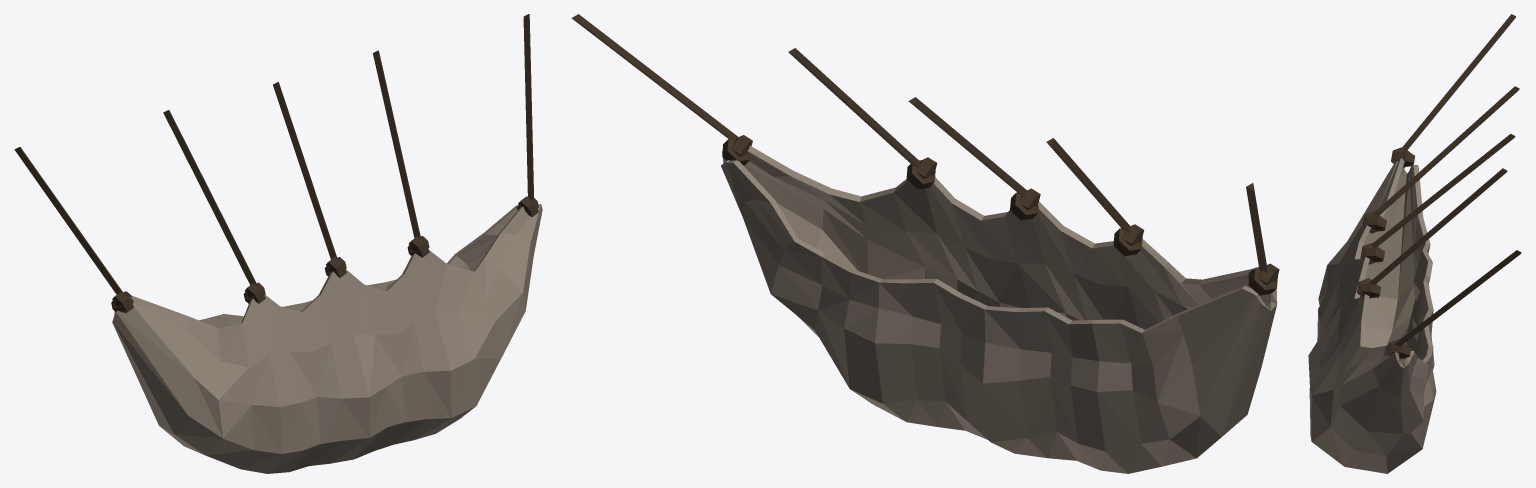
The model's file is SM_Veh_Extra_Cargo_01.glb.
3 views of the same model, side by side, from view 1: azimuth 30°, elevation 25°; view 2: azimuth 150°, elevation 25°; view 3: azimuth 270°, elevation 25° (orthographic). The views are drawn at different scales.
Visible parts, largest first — view 1: SM_Veh_Extra_Cargo_01_00; view 2: SM_Veh_Extra_Cargo_01_00; view 3: SM_Veh_Extra_Cargo_01_00.
Boxes of the visible parts, box(x1,y1,x2,y2) form: SM_Veh_Extra_Cargo_01_00: box(14, 14, 542, 473); SM_Veh_Extra_Cargo_01_00: box(571, 14, 1279, 473); SM_Veh_Extra_Cargo_01_00: box(1308, 14, 1521, 473).
Bounding box in the file's own units: 4.72 × 2.86 × 1.74.
1 material, 1 textured.
